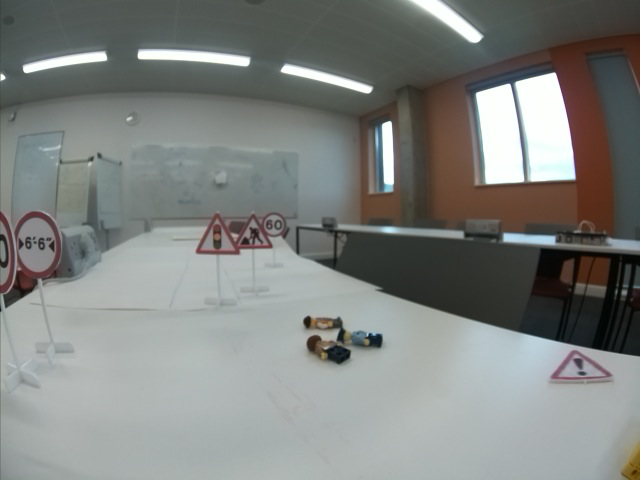60mph: (262, 213, 287, 235)
6ft6: (16, 209, 63, 276)
Lego Man: (307, 335, 352, 364), (339, 328, 385, 348), (302, 314, 345, 330)
Roadworks: (238, 216, 273, 250)
Traffic lights: (196, 212, 239, 255)
Warning: (549, 352, 614, 383)
